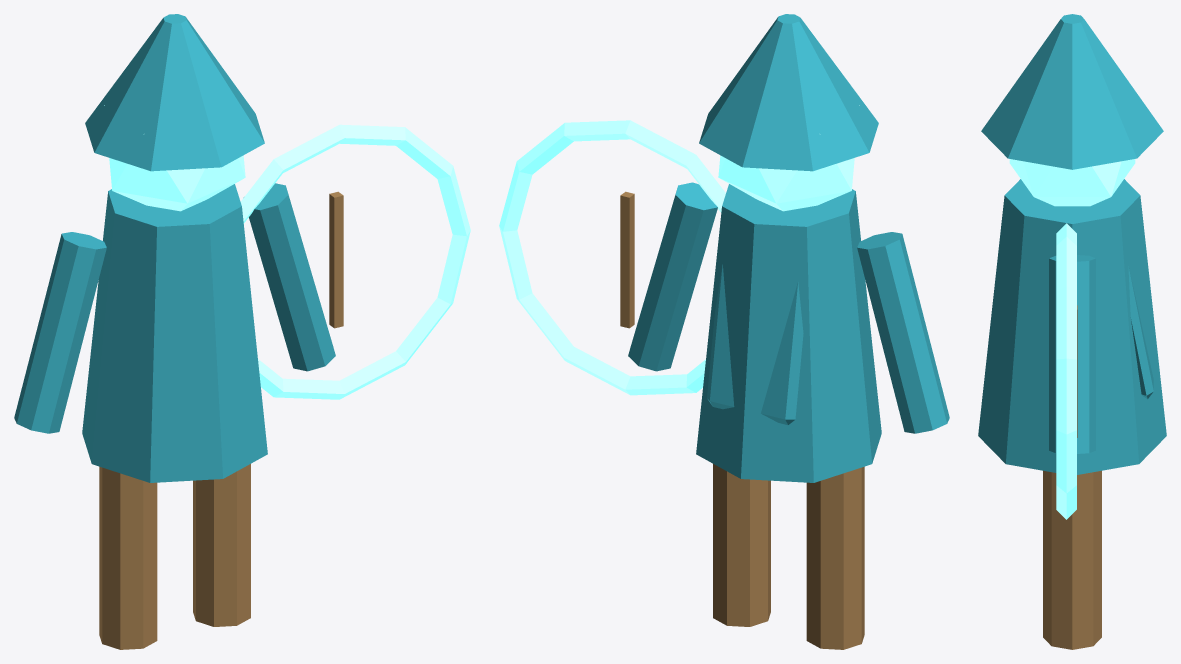
Rendered from hero_storm_savant.glb.
3 renders of one model, left to right at view 1: azimuth 30°, elevation 25°; view 2: azimuth 150°, elevation 25°; view 3: azimuth 270°, elevation 25°, orthographic.
Parts seen in each view (by area): view 1: hero_storm_savant; view 2: hero_storm_savant; view 3: hero_storm_savant.
Boxes of the visible parts, x1,y1,x2,y2 form: hero_storm_savant: (14,14,470,649); hero_storm_savant: (499,14,949,649); hero_storm_savant: (978,14,1166,649).
Size of the model in its own units: 1.73 by 2.23 by 0.64.
